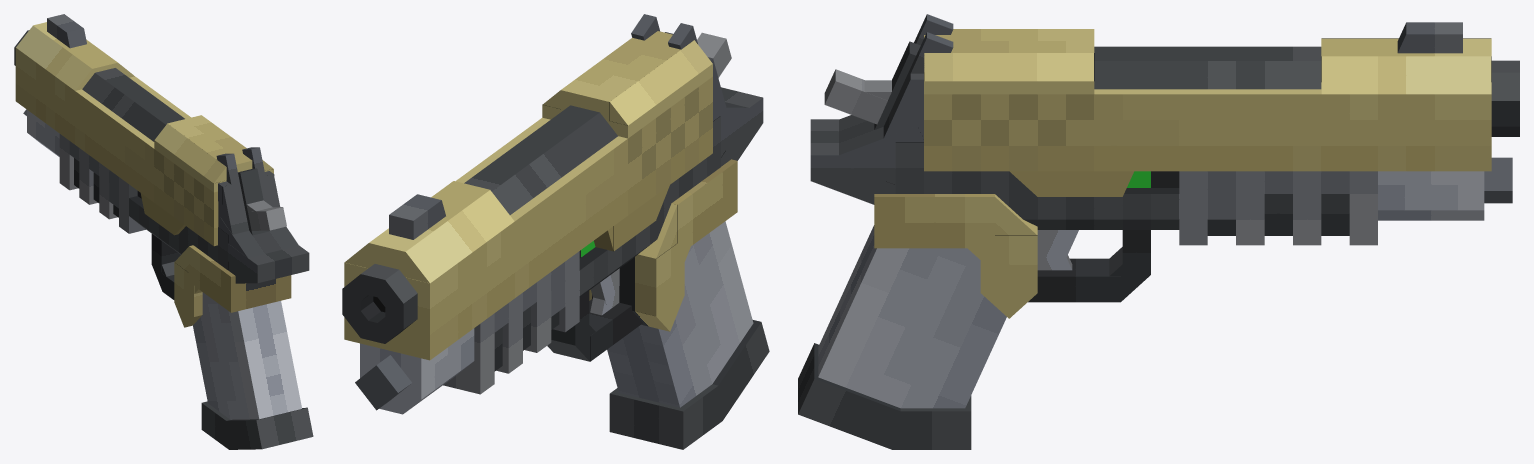
3 views of the same model, side by side, from view 1: azimuth 30°, elevation 25°; view 2: azimuth 150°, elevation 25°; view 3: azimuth 270°, elevation 25° (orthographic). The views are drawn at different scales.
Parts seen in each view (by area): view 1: effac371-ef9e-bde0-b949-fce2ffb96543, dbf9edfb-5ac3-6b23-cf8b-88591f1fd675, 6d95666c-e09e-298f-7465-ddc152a683a1, f301cdfc-1507-1704-bda7-96a709690052, 33d6757f-4d23-4341-d4f7-9ebbcc8c7fee, bda53b50-a70d-052f-5d69-9ab142a1d20f, cab804f3-a442-4bd6-7885-33baf9d11b57, c400d63c-0772-0c87-0977-c9577f97171d, 898fefa7-6e78-a1b8-619f-6bba8dc8cc27, 762a5d67-84af-e5b4-3139-aaa7d1c88e6b, be5a9e96-a07c-c4cb-1b2a-a9df481f861f, 64bcea48-469a-3249-0b20-1e5c18a41f21 (+21 smaller); view 2: effac371-ef9e-bde0-b949-fce2ffb96543, dbf9edfb-5ac3-6b23-cf8b-88591f1fd675, 9956a935-6f12-48cb-55fb-966510d966e5, 33d6757f-4d23-4341-d4f7-9ebbcc8c7fee, c400d63c-0772-0c87-0977-c9577f97171d, cab804f3-a442-4bd6-7885-33baf9d11b57, 64534ef5-43d5-dbc7-9e0d-319509988bed, 6d95666c-e09e-298f-7465-ddc152a683a1, 898fefa7-6e78-a1b8-619f-6bba8dc8cc27, 06fa85a9-bc9d-db2e-4b20-c8b5e5e55631, 64bcea48-469a-3249-0b20-1e5c18a41f21, 5bb30086-39c7-164e-7059-a097487a3e04 (+32 smaller); view 3: effac371-ef9e-bde0-b949-fce2ffb96543, dbf9edfb-5ac3-6b23-cf8b-88591f1fd675, f87f7960-856d-b373-4cd1-6e3da5d6af9d, 6d95666c-e09e-298f-7465-ddc152a683a1, 3bcca617-2714-658a-9539-dbf35f7c4997, 5bb30086-39c7-164e-7059-a097487a3e04, fc1a2346-3403-52c4-5bdc-5573682a988e, f301cdfc-1507-1704-bda7-96a709690052, 06fa85a9-bc9d-db2e-4b20-c8b5e5e55631, 6592c1df-2163-0fa4-7dd7-8345db3ca706, fc7805d3-6d7f-5aa4-c7a0-aedb10fe962e, c400d63c-0772-0c87-0977-c9577f97171d (+31 smaller).
Part boxes in pixels (x1,y1,x2,y2): effac371-ef9e-bde0-b949-fce2ffb96543: (15, 48, 218, 246); dbf9edfb-5ac3-6b23-cf8b-88591f1fd675: (193, 292, 301, 419); 6d95666c-e09e-298f-7465-ddc152a683a1: (189, 245, 291, 312); f301cdfc-1507-1704-bda7-96a709690052: (227, 407, 313, 449); 33d6757f-4d23-4341-d4f7-9ebbcc8c7fee: (16, 25, 92, 90); bda53b50-a70d-052f-5d69-9ab142a1d20f: (228, 243, 309, 282); cab804f3-a442-4bd6-7885-33baf9d11b57: (82, 73, 165, 141); c400d63c-0772-0c87-0977-c9577f97171d: (167, 115, 252, 172); 898fefa7-6e78-a1b8-619f-6bba8dc8cc27: (155, 123, 226, 183); 762a5d67-84af-e5b4-3139-aaa7d1c88e6b: (218, 174, 280, 264); be5a9e96-a07c-c4cb-1b2a-a9df481f861f: (218, 217, 298, 257); 64bcea48-469a-3249-0b20-1e5c18a41f21: (95, 68, 184, 124); effac371-ef9e-bde0-b949-fce2ffb96543: (344, 76, 712, 360); dbf9edfb-5ac3-6b23-cf8b-88591f1fd675: (607, 221, 753, 407); 9956a935-6f12-48cb-55fb-966510d966e5: (609, 383, 722, 449); 33d6757f-4d23-4341-d4f7-9ebbcc8c7fee: (405, 190, 514, 283); c400d63c-0772-0c87-0977-c9577f97171d: (560, 31, 680, 121); cab804f3-a442-4bd6-7885-33baf9d11b57: (492, 112, 617, 214); 64534ef5-43d5-dbc7-9e0d-319509988bed: (589, 238, 684, 316); 6d95666c-e09e-298f-7465-ddc152a683a1: (671, 159, 737, 250); 898fefa7-6e78-a1b8-619f-6bba8dc8cc27: (610, 40, 712, 125); 06fa85a9-bc9d-db2e-4b20-c8b5e5e55631: (360, 328, 474, 399); 64bcea48-469a-3249-0b20-1e5c18a41f21: (464, 105, 599, 191); 5bb30086-39c7-164e-7059-a097487a3e04: (551, 204, 670, 316); effac371-ef9e-bde0-b949-fce2ffb96543: (924, 82, 1491, 171); dbf9edfb-5ac3-6b23-cf8b-88591f1fd675: (818, 225, 1006, 408); f87f7960-856d-b373-4cd1-6e3da5d6af9d: (1321, 56, 1491, 94); 6d95666c-e09e-298f-7465-ddc152a683a1: (874, 194, 994, 248); 3bcca617-2714-658a-9539-dbf35f7c4997: (1094, 61, 1321, 89); 5bb30086-39c7-164e-7059-a097487a3e04: (995, 188, 1235, 219); fc1a2346-3403-52c4-5bdc-5573682a988e: (924, 53, 1093, 81); f301cdfc-1507-1704-bda7-96a709690052: (798, 343, 906, 449); 06fa85a9-bc9d-db2e-4b20-c8b5e5e55631: (1378, 171, 1484, 210); 6592c1df-2163-0fa4-7dd7-8345db3ca706: (1179, 171, 1349, 193); fc7805d3-6d7f-5aa4-c7a0-aedb10fe962e: (895, 142, 1033, 193); c400d63c-0772-0c87-0977-c9577f97171d: (924, 29, 1094, 71).
Size of the model in its own units: 3.5 by 15.79 by 25.44.
Materials: 2 (2 with a texture image).
